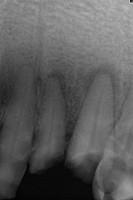Furcation Involvement: (0, 42, 74, 117), (79, 62, 122, 106)
